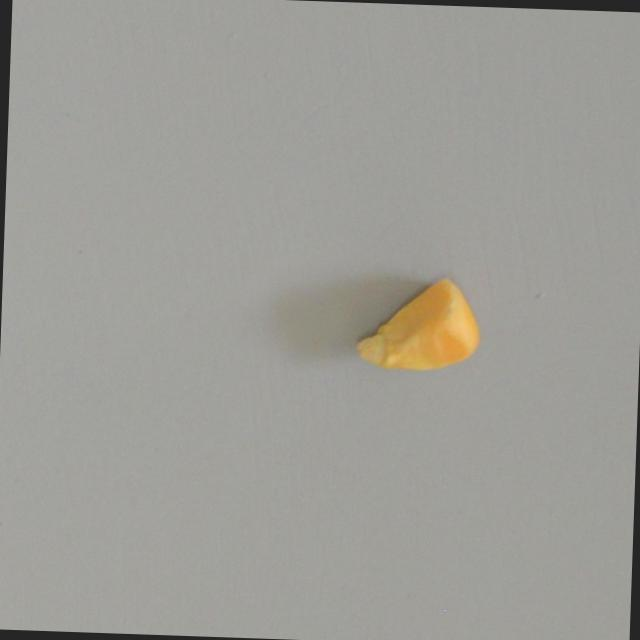entero: (349, 272, 479, 374)
